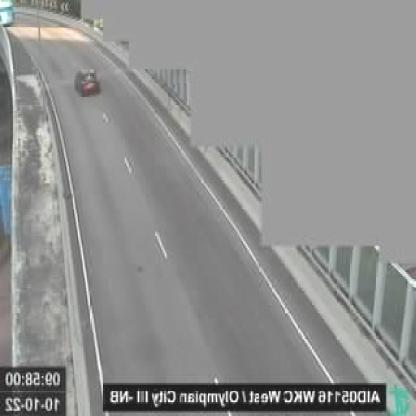Car: (74, 68, 100, 96)
